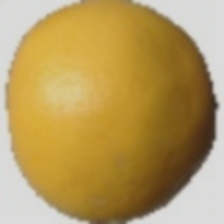grapes: (1, 34, 181, 192)
